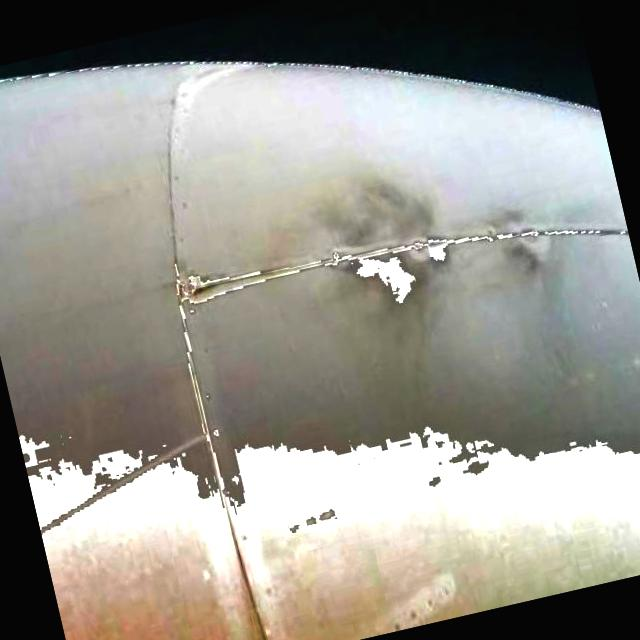crack: (180, 250, 334, 303)
